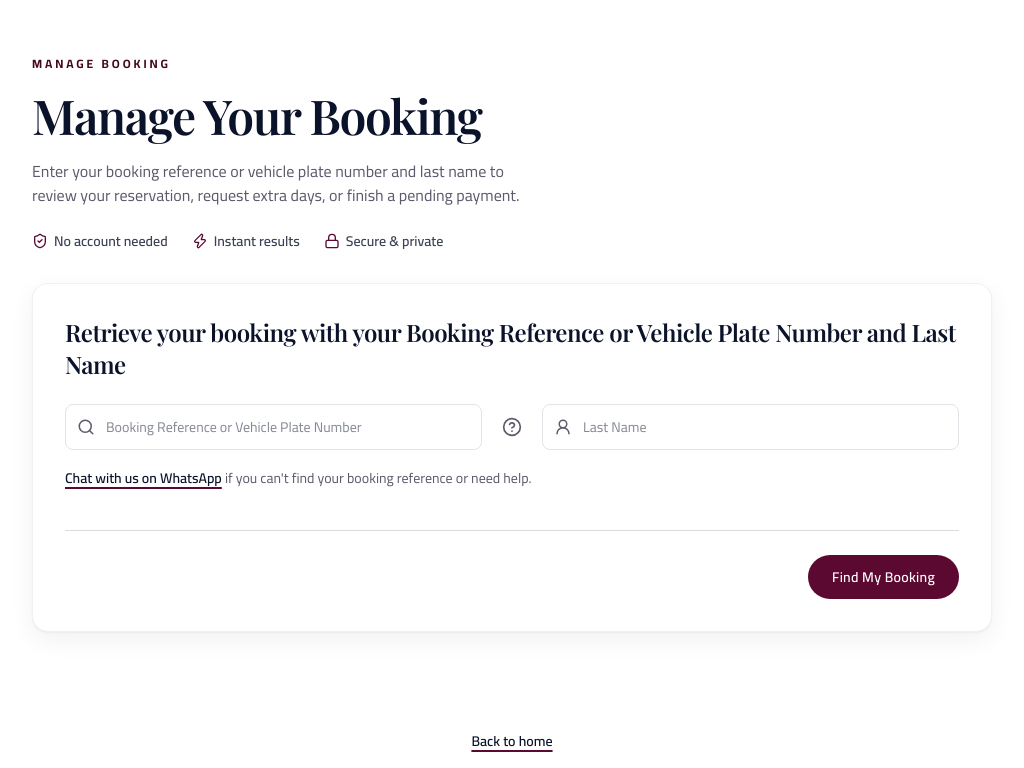
ManageBookingPage › shows the booking summary when found by booking reference and matching last name
In the field with placeholder "Booking Reference or Vehicle Plate Number": {"x": 274, "y": 427} x1=65 y1=404 x2=482 y2=450, type "BLS-ABCDEF12"
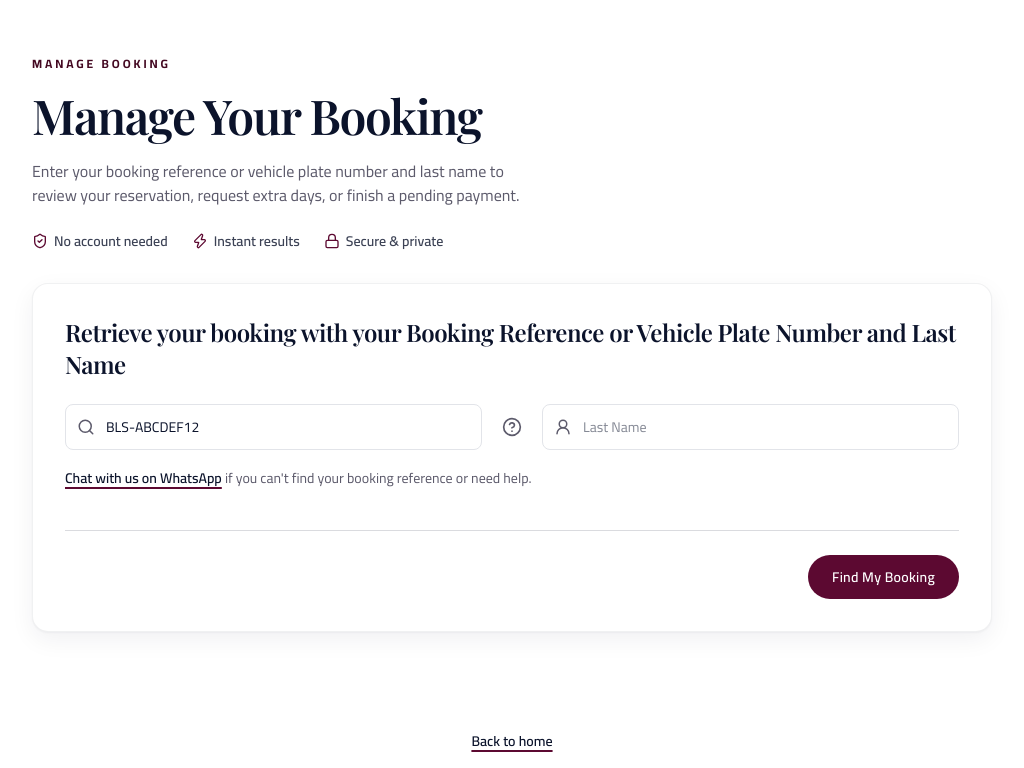
In the field with placeholder "Last Name": {"x": 750, "y": 427} x1=542 y1=404 x2=959 y2=450, type "Renter"
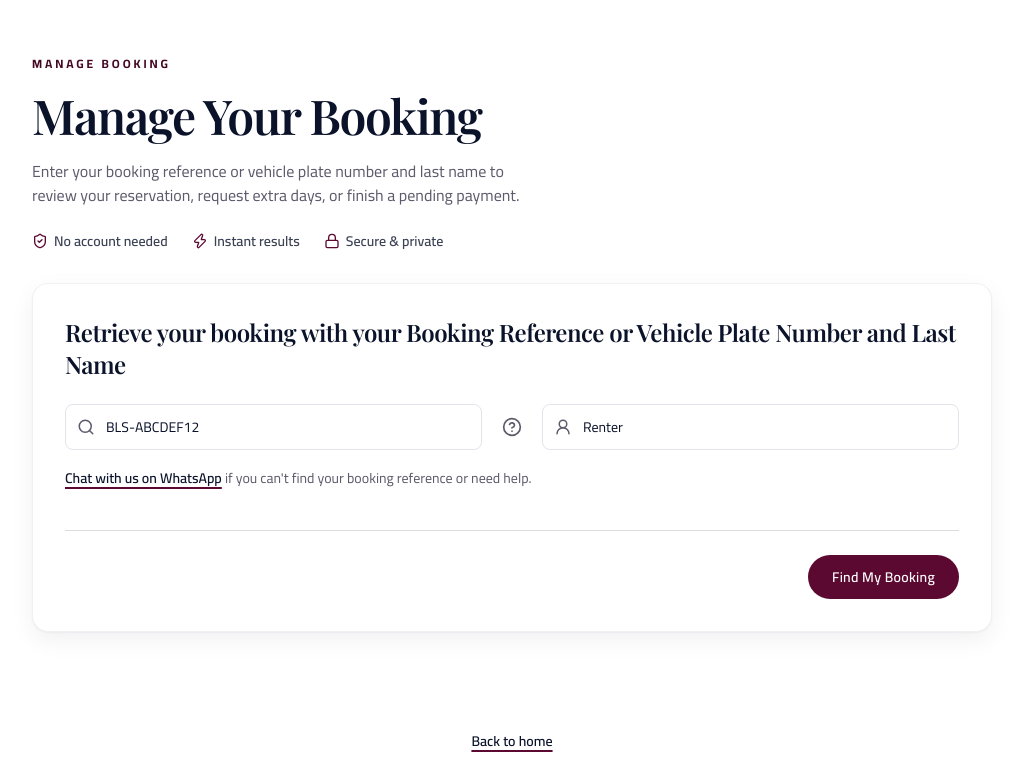
Click the button "Find My Booking": {"x": 884, "y": 577} x1=808 y1=555 x2=959 y2=599
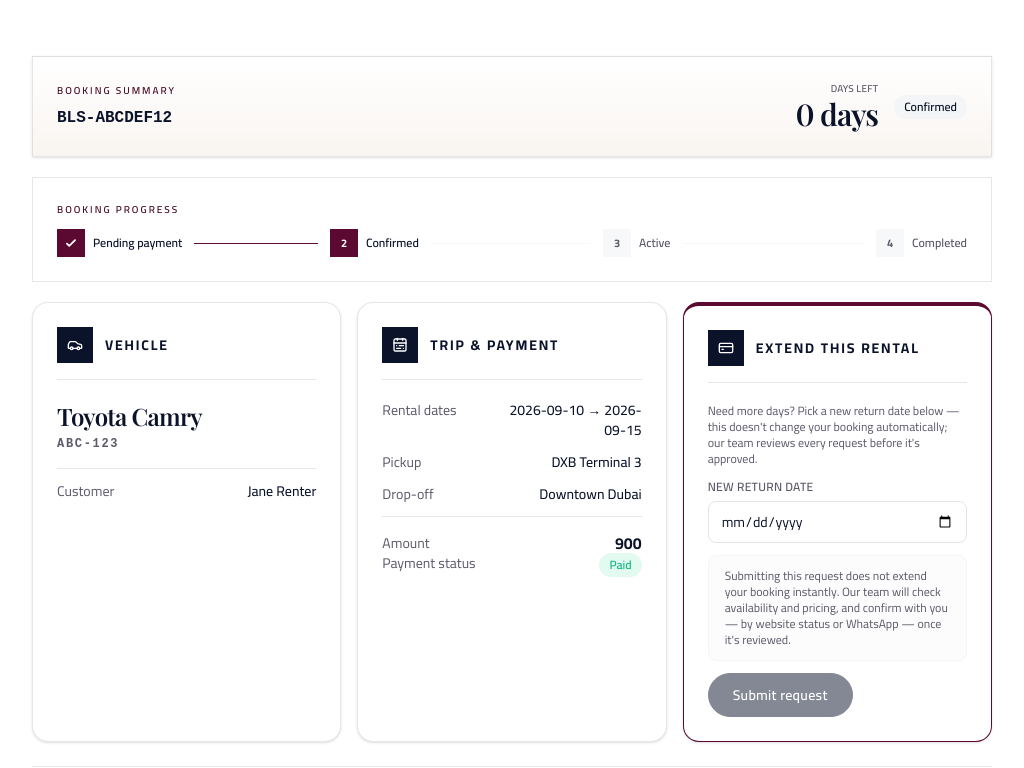
Check: the text "BLS-ABCDEF12" is shown, box x1=57 y1=106 x2=176 y2=130
Check: the text "Toyota Camry" is shown, box x1=57 y1=400 x2=202 y2=432
Check: the text "Jane Renter" is shown, box x1=247 y1=478 x2=316 y2=504
